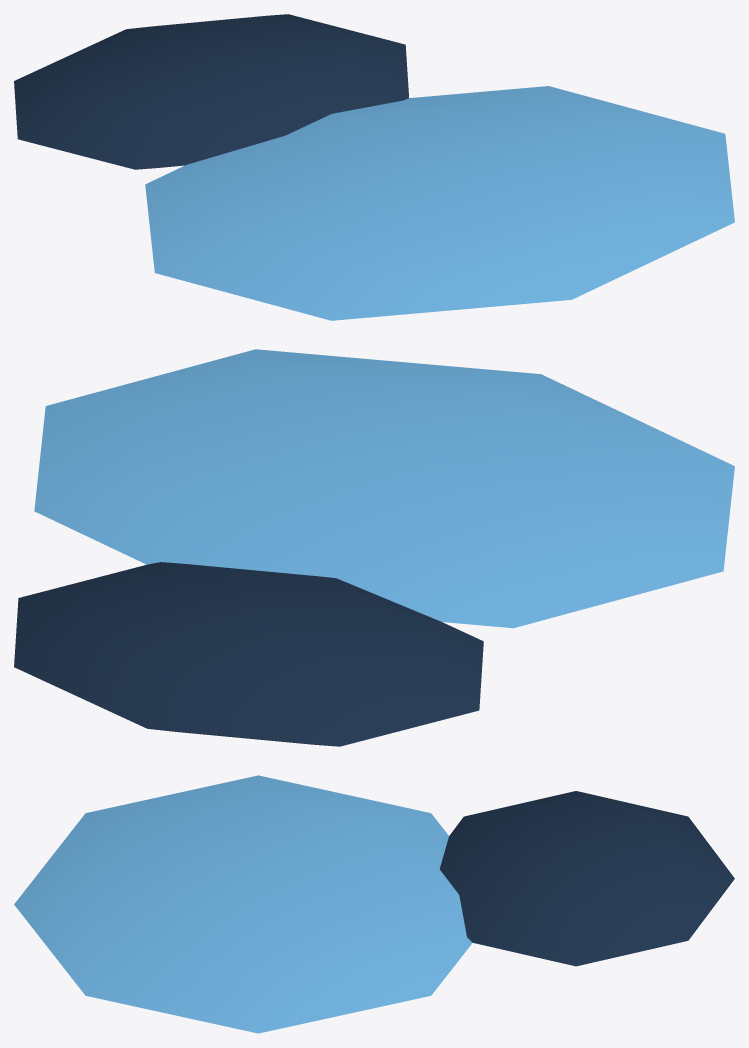
Rendered from ButterflyBlue_WingL.fbx.
3 views of the same model, one above another, from view 1: azimuth 30°, elevation 25°; view 2: azimuth 150°, elevation 25°; view 3: azimuth 270°, elevation 25° (orthographic). The views are drawn at different scales.
Parts seen in each view (by area): view 1: ButterflyBlue_WingL_EXP; view 2: ButterflyBlue_WingL_EXP; view 3: ButterflyBlue_WingL_EXP.
Part boxes in pixels (box(x1,y1,x2,y2)): ButterflyBlue_WingL_EXP: box(14, 14, 734, 320); ButterflyBlue_WingL_EXP: box(14, 349, 734, 746); ButterflyBlue_WingL_EXP: box(14, 775, 734, 1033).
Size of the model in its own units: 0.05 by 0.005 by 0.059.
